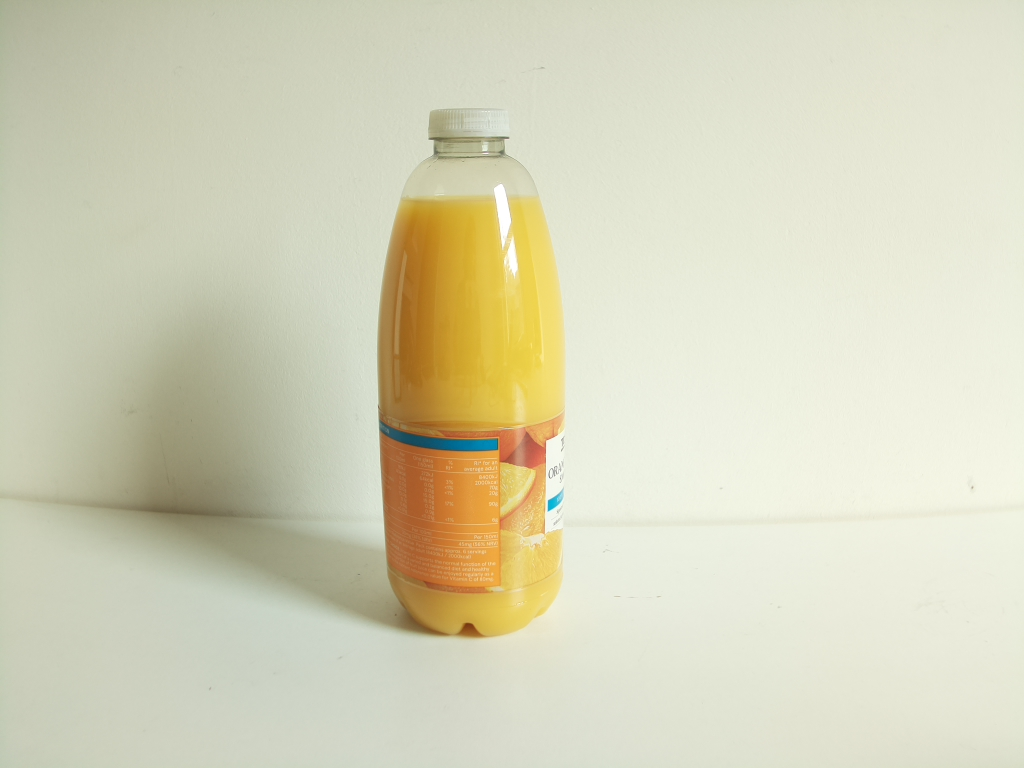juice: (370, 103, 573, 640)
